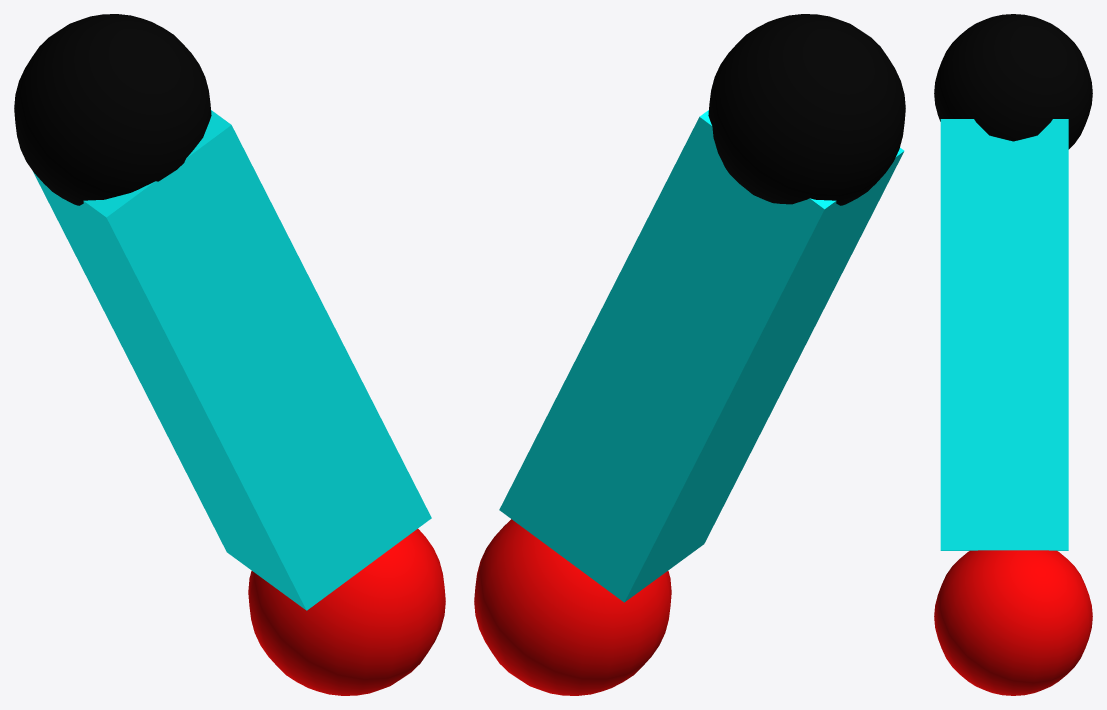
File: hand1.obj
3 renders of one model, left to right at view 1: azimuth 30°, elevation 25°; view 2: azimuth 150°, elevation 25°; view 3: azimuth 270°, elevation 25°, orthographic. The views are drawn at different scales.
Parts seen in each view (by area): view 1: pCube30 polySurface9, polySurface17 pCube30, pCube30 polySurface20; view 2: pCube30 polySurface9, polySurface17 pCube30, pCube30 polySurface20; view 3: pCube30 polySurface9, pCube30 polySurface20, polySurface17 pCube30.
Boxes of the visible parts, left/top/right/bottom form: pCube30 polySurface9: left=33, top=110, right=431, bottom=610; polySurface17 pCube30: left=14, top=14, right=211, bottom=205; pCube30 polySurface20: left=248, top=529, right=445, bottom=695; pCube30 polySurface9: left=499, top=110, right=904, bottom=602; polySurface17 pCube30: left=708, top=14, right=905, bottom=205; pCube30 polySurface20: left=474, top=519, right=671, bottom=695; pCube30 polySurface9: left=940, top=119, right=1068, bottom=550; pCube30 polySurface20: left=934, top=550, right=1092, bottom=695; polySurface17 pCube30: left=934, top=14, right=1092, bottom=149.
Bounding box in the file's own units: 2.23 × 3.79 × 0.9467.
